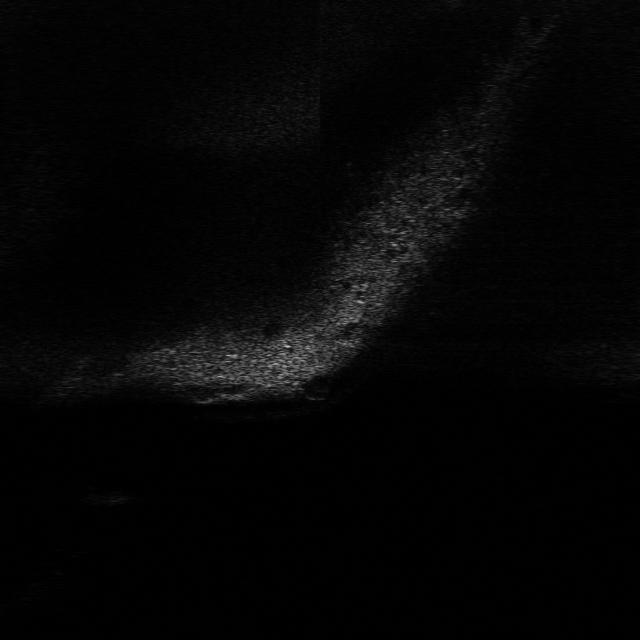cube: (71, 480, 138, 510)
